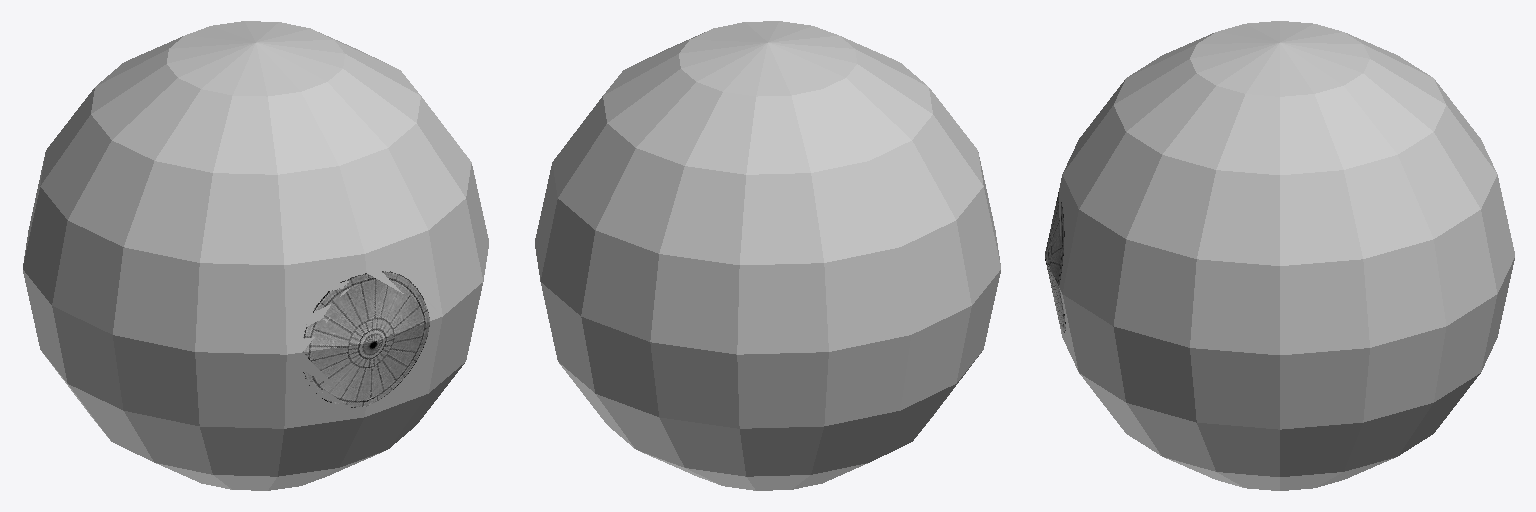
The picture shows the model from 3 angles: view 1: azimuth 30°, elevation 25°; view 2: azimuth 150°, elevation 25°; view 3: azimuth 270°, elevation 25°; orthographic projection.
Parts seen in each view (by area): view 1: Sphere.009_Sphere.010; view 2: Sphere.009_Sphere.010; view 3: Sphere.009_Sphere.010.
Boxes of the visible parts, x1,y1,x2,y2 form: Sphere.009_Sphere.010: [23, 21, 488, 490]; Sphere.009_Sphere.010: [535, 21, 1000, 490]; Sphere.009_Sphere.010: [1045, 21, 1514, 490].
Bounding box in the file's own units: 2.64 × 2.64 × 2.64.
18 materials, 1 textured.